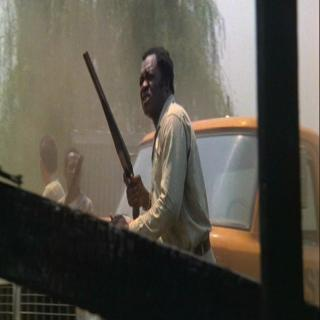gun: (77, 45, 136, 222)
